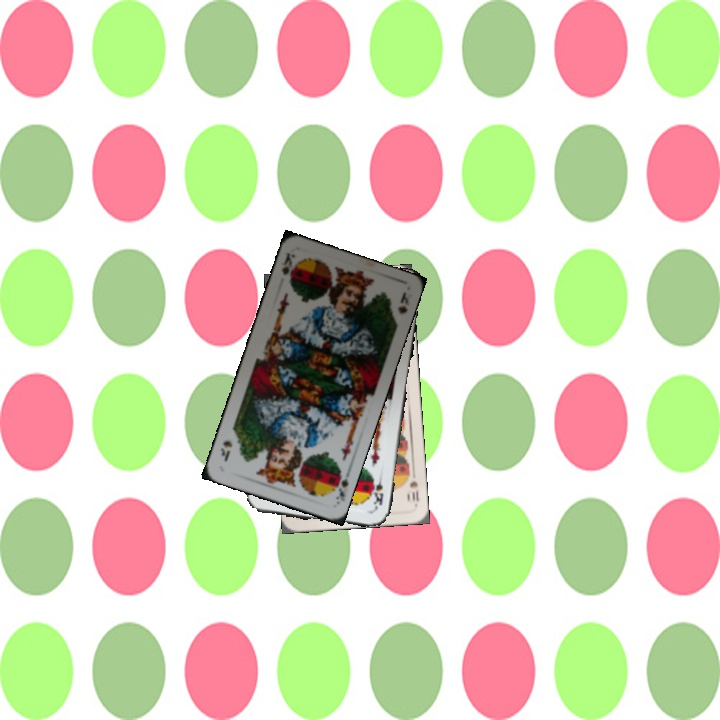S10: (402, 468, 421, 508)
SK: (328, 464, 353, 506), (277, 249, 299, 286), (370, 471, 386, 511)
